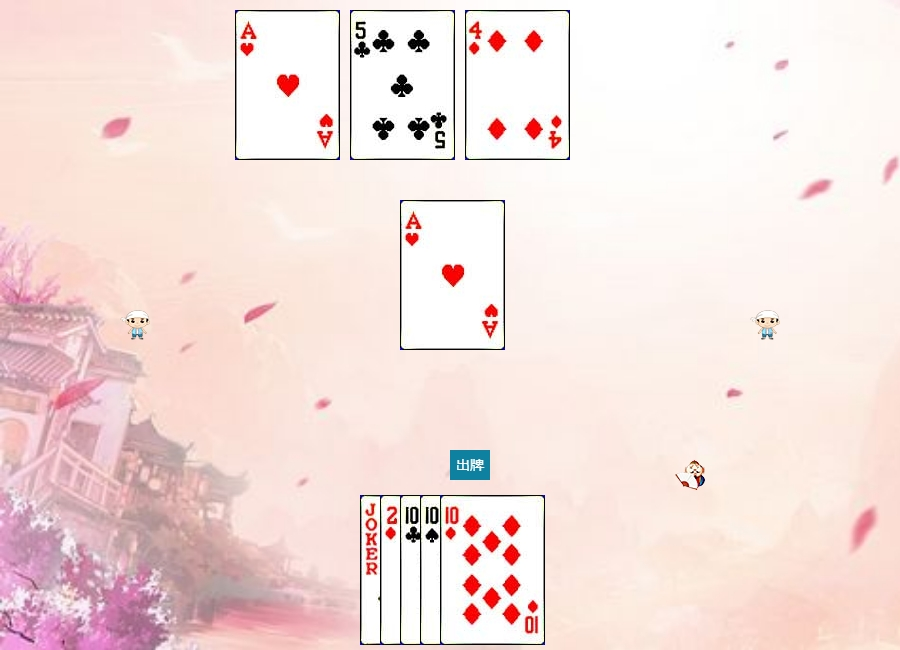10~1: (440, 495, 545, 645)
10~2: (400, 495, 505, 645)
10~4: (420, 495, 525, 645)
14~3: (235, 10, 340, 160), (400, 200, 505, 350)
15~1: (380, 495, 485, 645)
18~4: (360, 495, 465, 645)
4~1: (465, 10, 570, 160)
5~2: (350, 10, 455, 160)
